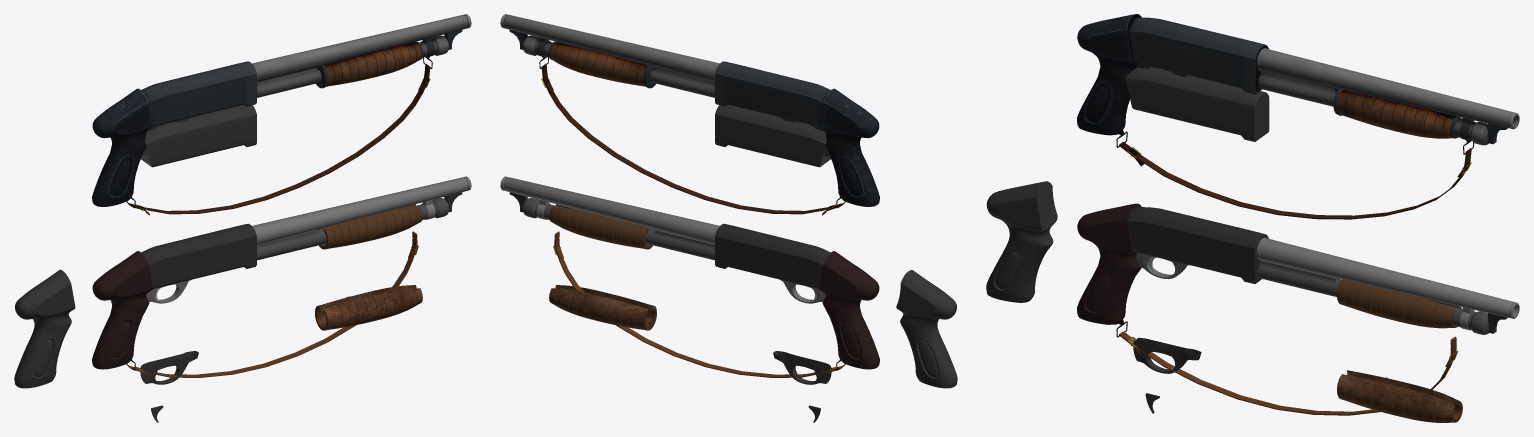
File: M37_Stakeout_Sawed_Off.fbx
3 views of the same model, side by side, from view 1: azimuth 30°, elevation 25°; view 2: azimuth 150°, elevation 25°; view 3: azimuth 330°, elevation 25° (orthographic). The views are drawn at different scales.
Visible parts, largest first — view 1: stakeout_ref, stakeout, handgrip_hi, receiver_hi, pump_hi, triggerguard_hi; view 2: stakeout_ref, stakeout, handgrip_hi, receiver_hi, pump_hi, triggerguard_hi; view 3: stakeout, stakeout_ref, receiver_hi, handgrip_hi, pump_hi, triggerguard_hi.
Boxes of the visible parts, bbox=[...] form: stakeout_ref: bbox=[92, 14, 471, 215]; stakeout: bbox=[92, 176, 471, 377]; handgrip_hi: bbox=[14, 269, 75, 388]; receiver_hi: bbox=[141, 104, 256, 167]; pump_hi: bbox=[315, 285, 422, 330]; triggerguard_hi: bbox=[140, 351, 198, 384]; stakeout_ref: bbox=[500, 14, 879, 215]; stakeout: bbox=[500, 176, 879, 377]; handgrip_hi: bbox=[896, 270, 957, 388]; receiver_hi: bbox=[715, 104, 830, 167]; pump_hi: bbox=[549, 285, 656, 330]; triggerguard_hi: bbox=[773, 351, 831, 384]; stakeout: bbox=[1077, 203, 1519, 415]; stakeout_ref: bbox=[1077, 14, 1519, 219]; receiver_hi: bbox=[1125, 67, 1269, 141]; handgrip_hi: bbox=[986, 181, 1057, 302]; pump_hi: bbox=[1337, 370, 1462, 422]; triggerguard_hi: bbox=[1133, 337, 1201, 373].
Bounding box in the file's own units: 583 × 416 × 34.03.
13 materials, 2 textured.
